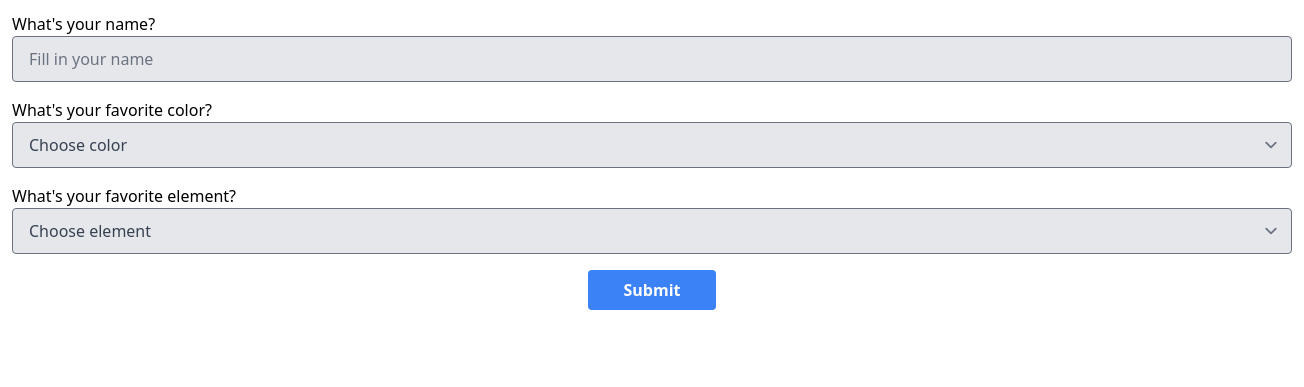
Test: validates fields correctly › shows errors if user hasn't filled in any fields
The image size is (1304, 387).
Click the button with test id "primary-button".
click(652, 290)  # box [588,270,716,310]
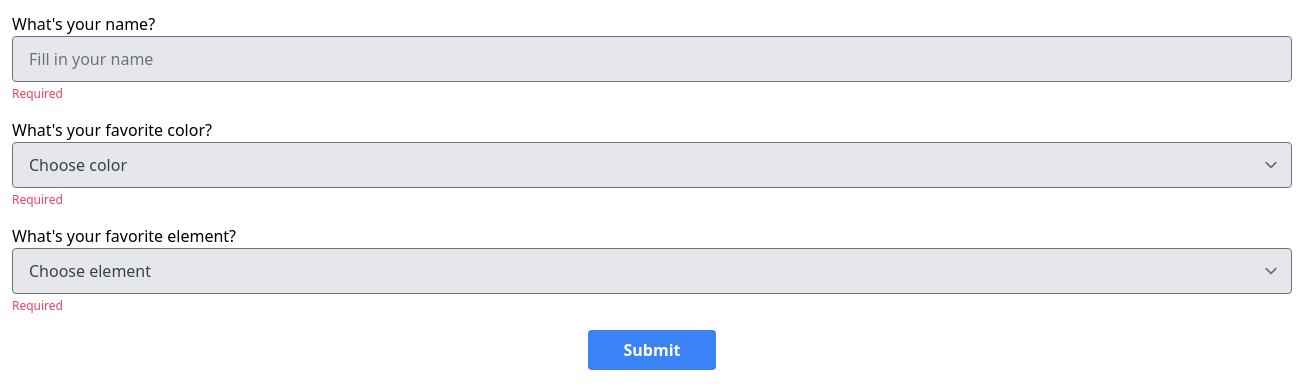
Expected: the text with test id "name-error" is shown, [12,85,63,102]
Expected: the text with test id "element-error" is shown, [12,297,63,314]
Expected: the text with test id "color-error" is shown, [12,191,63,208]
